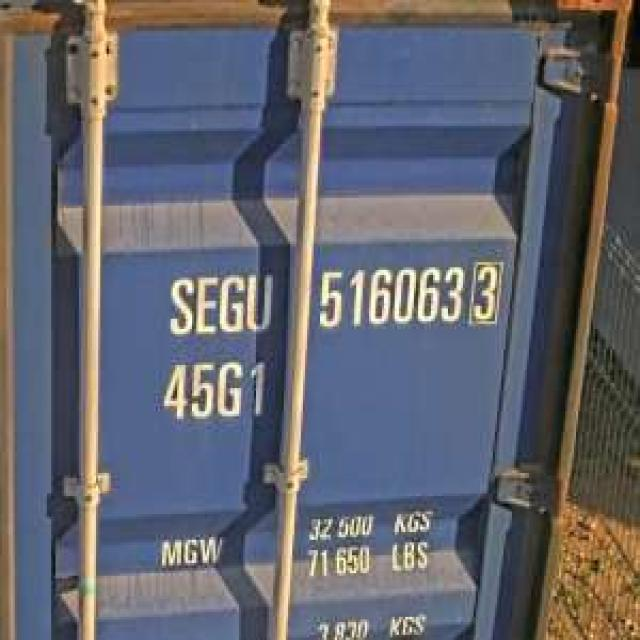dv: (468, 260, 504, 328)
owner: (163, 270, 279, 338)
serial: (314, 264, 466, 332)
size: (152, 351, 276, 431)
